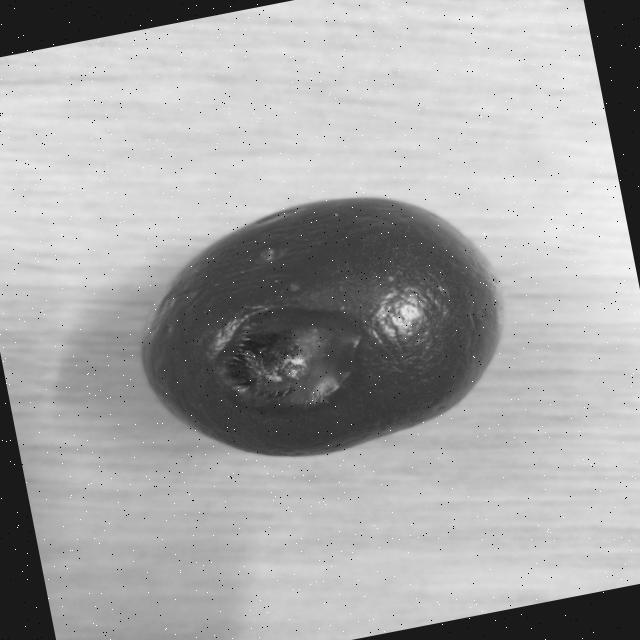Rotten: (115, 170, 528, 483)
